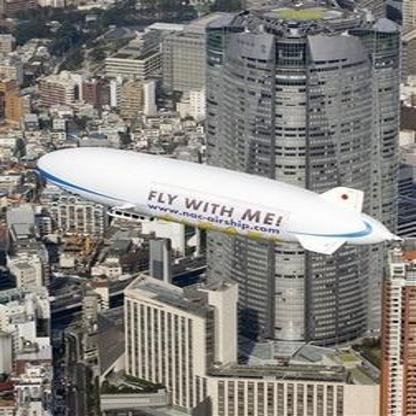Airship: (33, 147, 405, 257)
